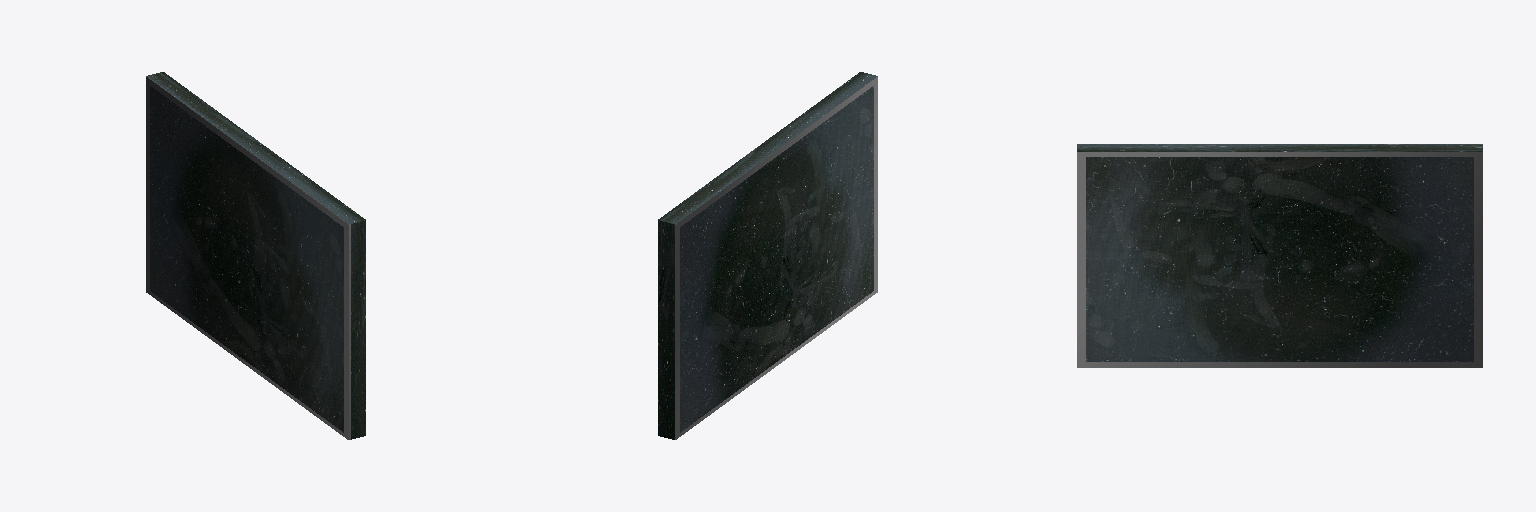
The picture shows the model from 3 angles: view 1: azimuth 30°, elevation 25°; view 2: azimuth 150°, elevation 25°; view 3: azimuth 270°, elevation 25°; orthographic projection.
Parts seen in each view (by area): view 1: Cube; view 2: Cube; view 3: Cube.
Boxes of the visible parts, box(x1,y1,x2,y2) form: Cube: box(146, 72, 365, 439); Cube: box(658, 72, 877, 439); Cube: box(1077, 144, 1482, 367).
Bounding box in the file's own units: 0.0743 × 0.856 × 1.46.
Materials: 1 (1 with a texture image).